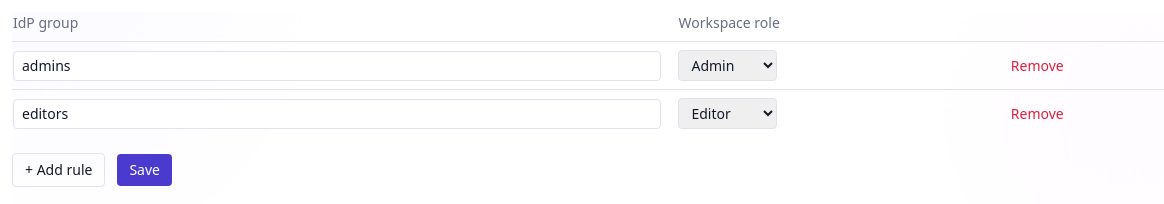
Test: GroupRuleEditor › removes the correct row when Remove is clicked
What coordinates should you click on to do the following:
click the button with test id "group-rule-remove-0"
I would click on:
 (1037, 66)
Its box is [1011,56,1064,76].
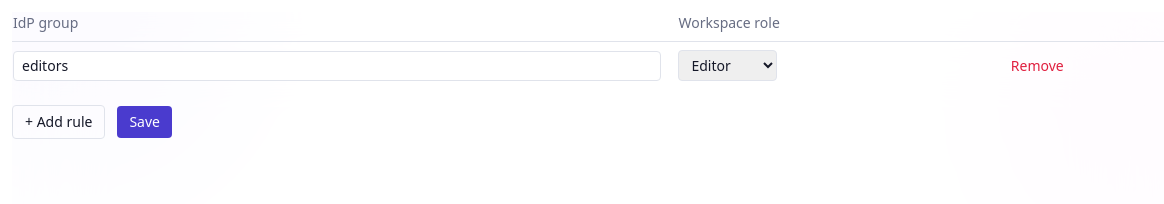
expect the field with test id "group-rule-group-input-0" holds "editors": met, box [13,50,662,80]
expect the row with test id "group-rule-row-1" is gone: met
